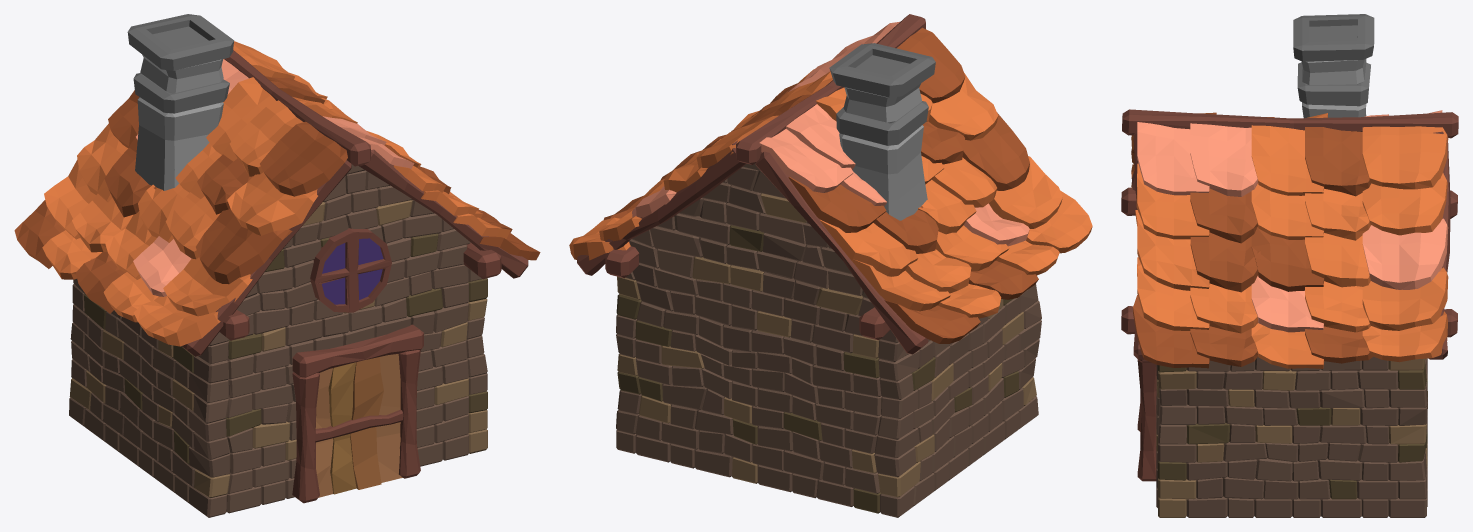
Rendered from Simple House.fbx.
3 renders of one model, left to right at view 1: azimuth 30°, elevation 25°; view 2: azimuth 150°, elevation 25°; view 3: azimuth 270°, elevation 25°, orthographic. The views are drawn at different scales.
Parts seen in each view (by area): view 1: Walls, Roof, Chimney, Door, Roof Axis, Door Axis, Window, Door ax; view 2: Walls, Roof, Chimney, Roof Axis; view 3: Roof, Walls, Chimney, Roof Axis, Door Axis.
Boxes of the visible parts, <box> form: Walls: <box>69,164,487,517</box>; Roof: <box>14,41,540,346</box>; Chimney: <box>127,14,234,190</box>; Door: <box>315,354,402,497</box>; Roof Axis: <box>182,50,528,356</box>; Door Axis: <box>292,324,423,503</box>; Window: <box>310,228,391,312</box>; Door ax: <box>315,409,403,442</box>; Walls: <box>616,163,1041,517</box>; Roof: <box>569,21,1092,343</box>; Chimney: <box>829,43,935,220</box>; Roof Axis: <box>577,14,928,354</box>; Roof: <box>1131,110,1448,368</box>; Walls: <box>1156,356,1427,517</box>; Chimney: <box>1293,14,1374,118</box>; Roof Axis: <box>1121,109,1458,359</box>; Door Axis: <box>1137,359,1156,481</box>.
Size of the model in its own units: 1165 by 1166 by 920.
